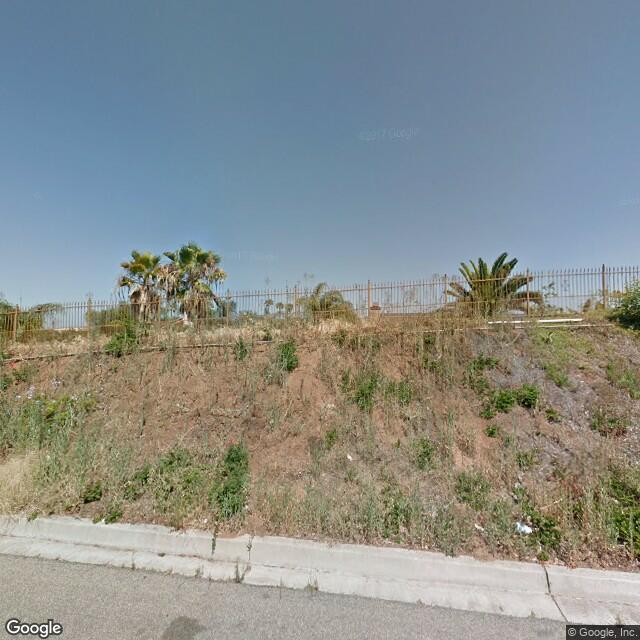litter: (513, 520, 534, 534), (473, 522, 486, 534), (345, 452, 356, 462)
